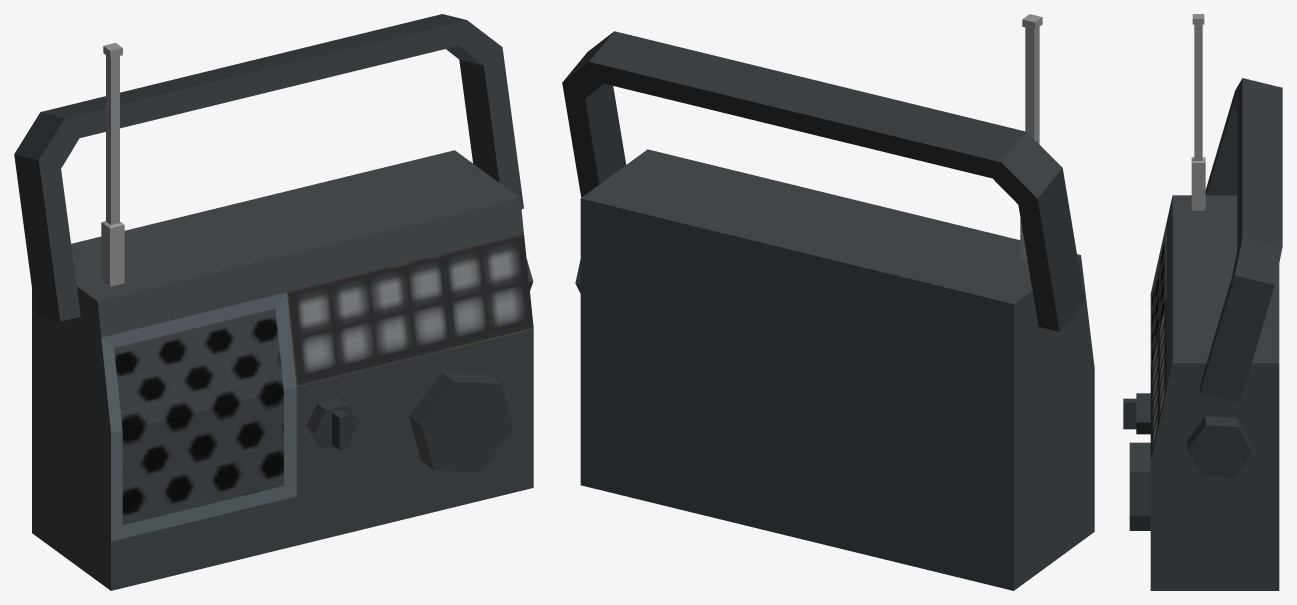
Rendered from SM_Prop_Radio_01.obj.
The picture shows the model from 3 angles, left to right: view 1: azimuth 30°, elevation 25°; view 2: azimuth 150°, elevation 25°; view 3: azimuth 270°, elevation 25°; orthographic projection. The views are drawn at different scales.
Parts seen in each view (by area): view 1: SM_Prop_Radio_01_0; view 2: SM_Prop_Radio_01_0; view 3: SM_Prop_Radio_01_0.
Boxes of the visible parts, bbox=[...] form: SM_Prop_Radio_01_0: bbox=[14, 14, 533, 590]; SM_Prop_Radio_01_0: bbox=[562, 14, 1094, 590]; SM_Prop_Radio_01_0: bbox=[1123, 14, 1282, 590].
Size of the model in its own units: 0.3862 by 0.4082 by 0.1404.
Materials: 1 (1 with a texture image).
